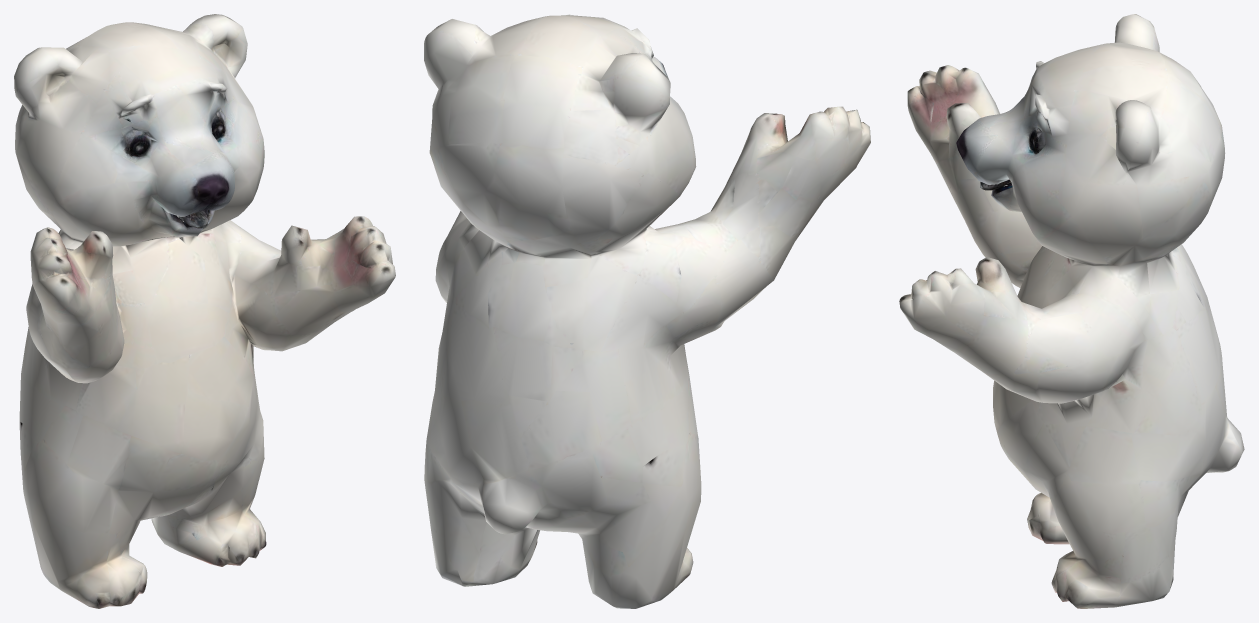
The model's file is polar-bear.glb.
3 renders of one model, left to right at view 1: azimuth 30°, elevation 25°; view 2: azimuth 150°, elevation 25°; view 3: azimuth 270°, elevation 25°, orthographic. The views are drawn at different scales.
Bounding box in the file's own units: 1.31 × 1.9 × 1.17.
1 material, 1 textured.
